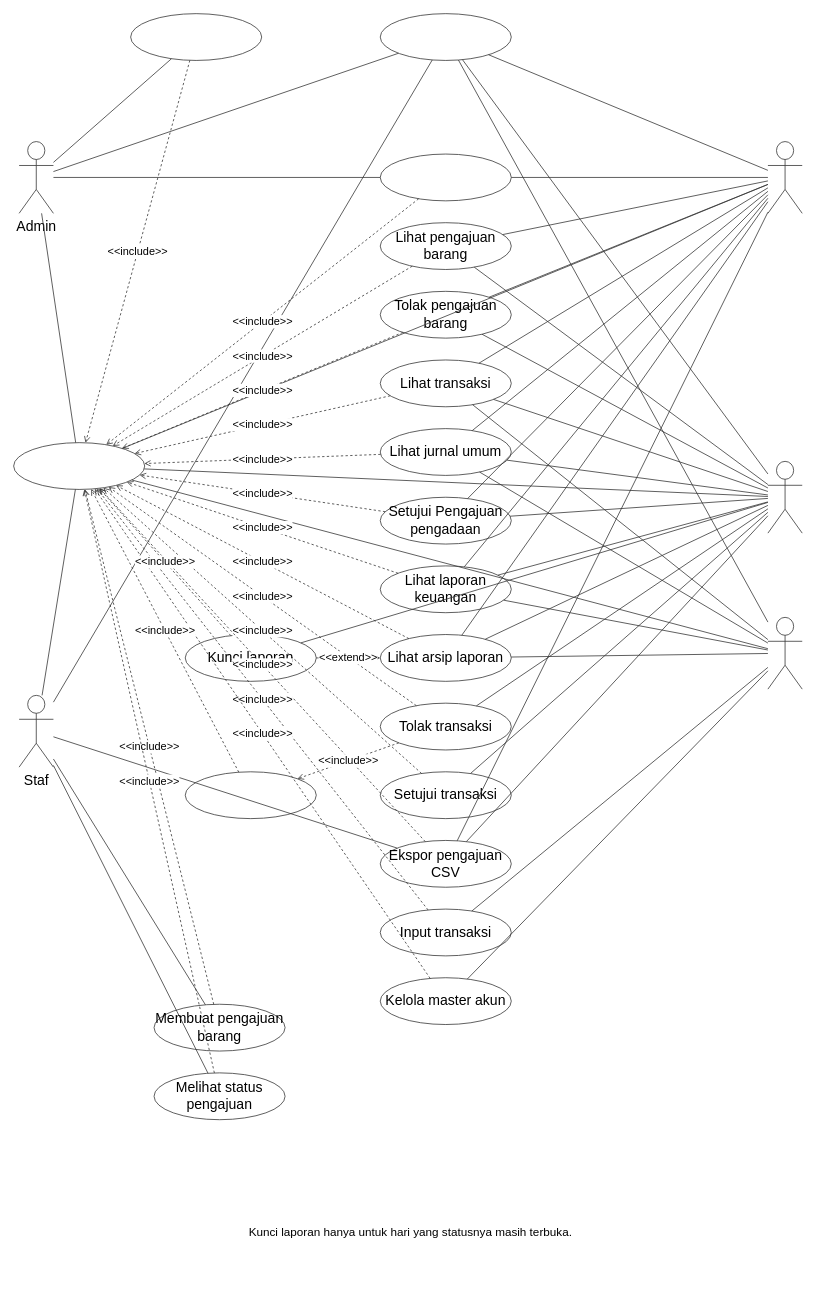
The diagram is 826 pixels wide and 1289 high, and some of its shapes have lost their labels. The centre of each missing label's shape, as x and y in pixels:
Activity log: [445,177]
Kelola data pengguna: [196,36]
Login: [79,465]
Logout: [445,36]
Manager: [784,497]
Masukkan alasan penolakan: [250,795]
Owner: [784,177]
Teller: [784,653]
